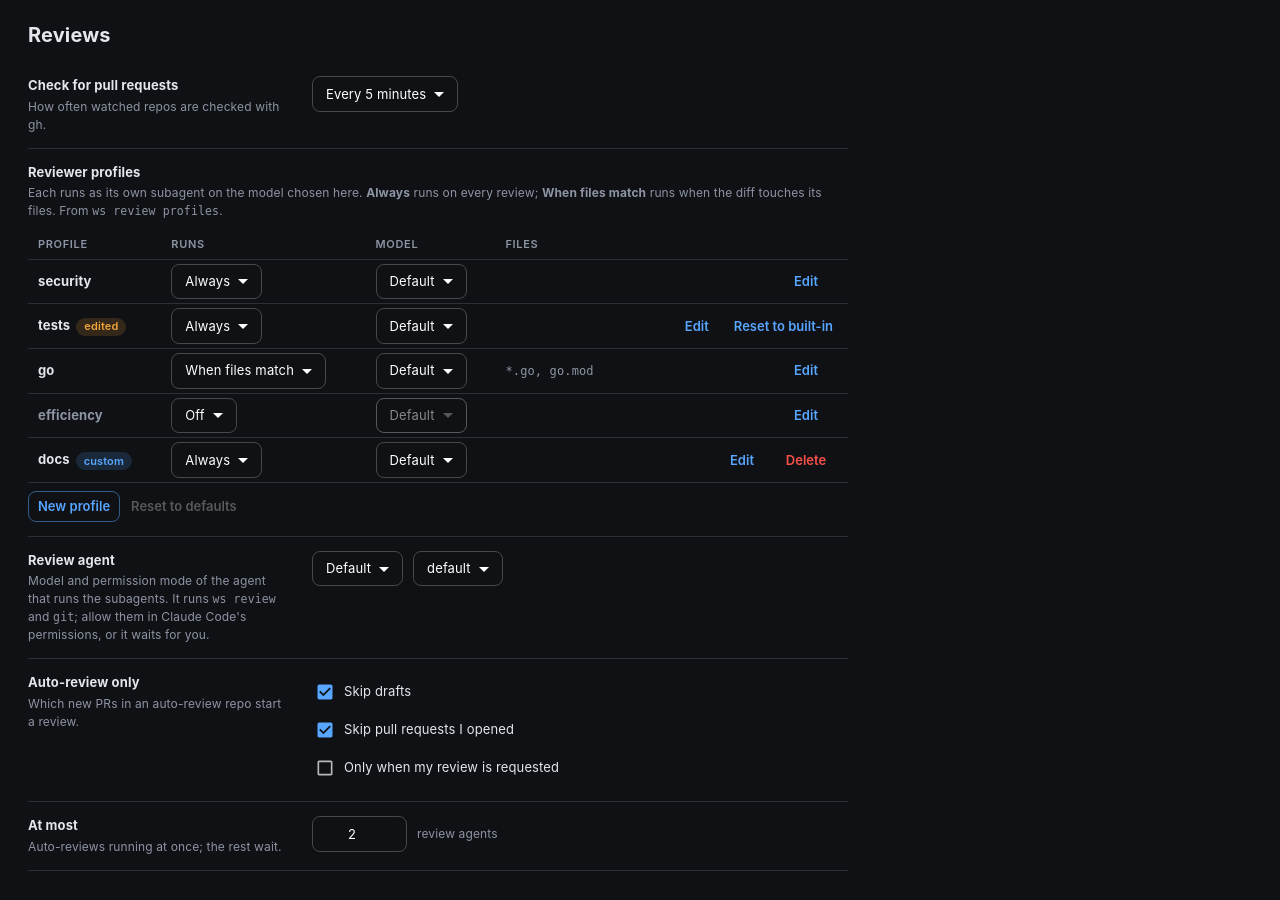
Test: Reviewer profiles actions › asks before resetting, saying the built-in comes back
Expected: the text "docs" is shown, left=38, top=451, right=70, bottom=467
What coordinates should you click on to do the following:
click the button with aria-label "Reset tests to built-in"
I would click on:
 (783, 326)
Its box is left=729, top=311, right=838, bottom=342.
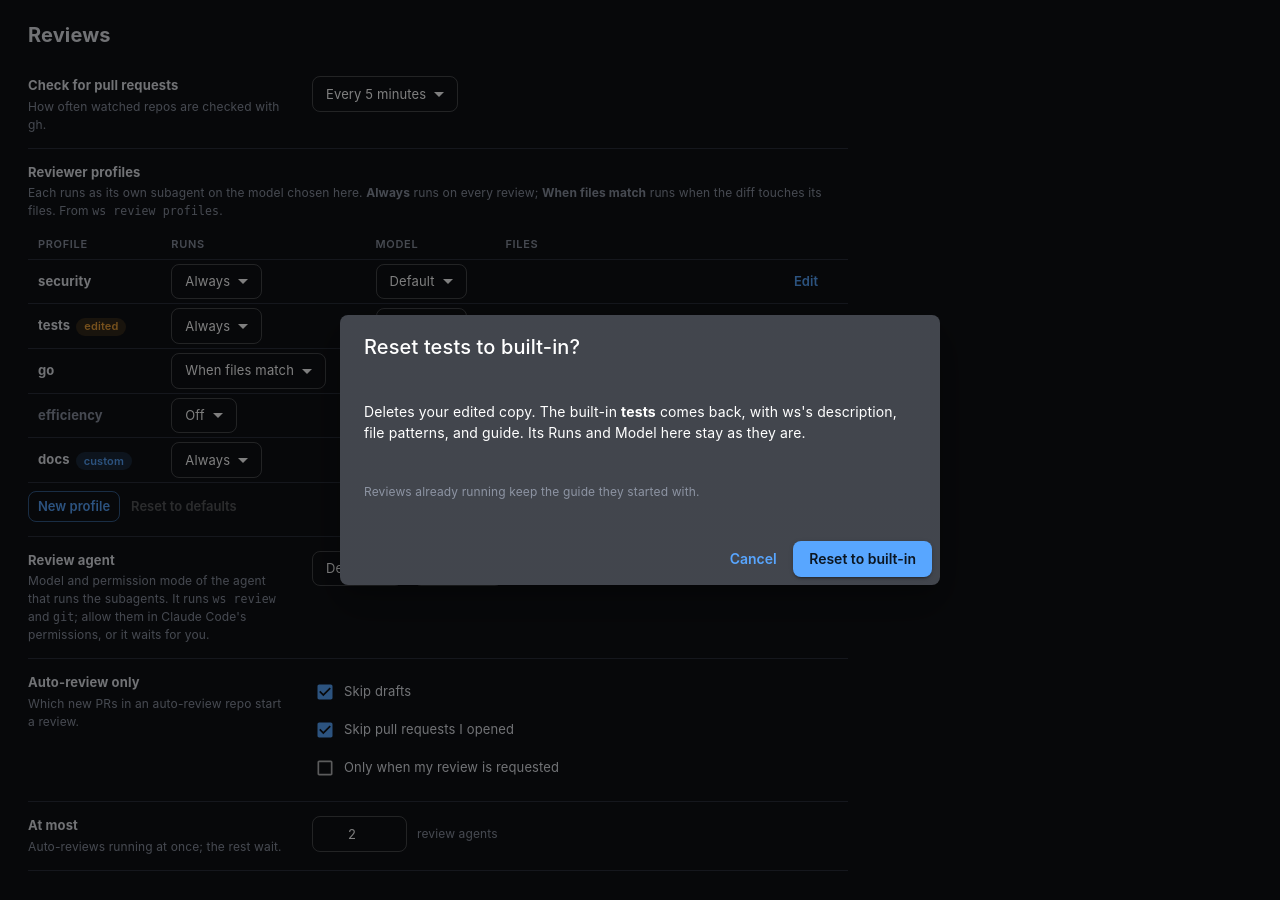
Expected: the dialog "Reset tests to built-in?" shows "The built-in tests comes back", left=340, top=315, right=940, bottom=585
Expected: the dialog "Reset tests to built-in?" shows "Its Runs and Model here stay", left=364, top=403, right=897, bottom=441
What coordinates should you click on to do the following:
click the button "Reset to built-in"
I would click on:
 (863, 559)
Its box is left=793, top=541, right=932, bottom=577.
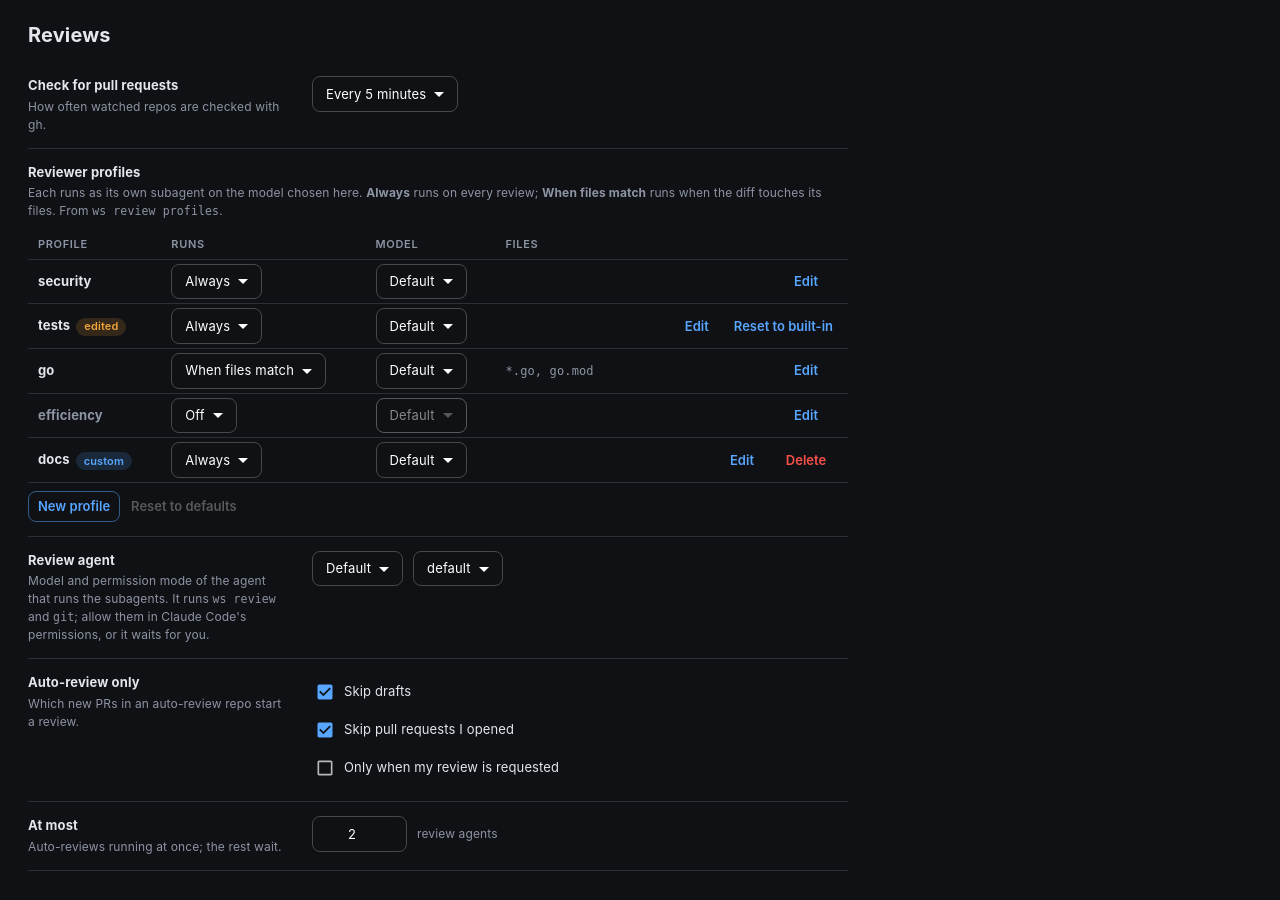
Expected: the dialog is gone
